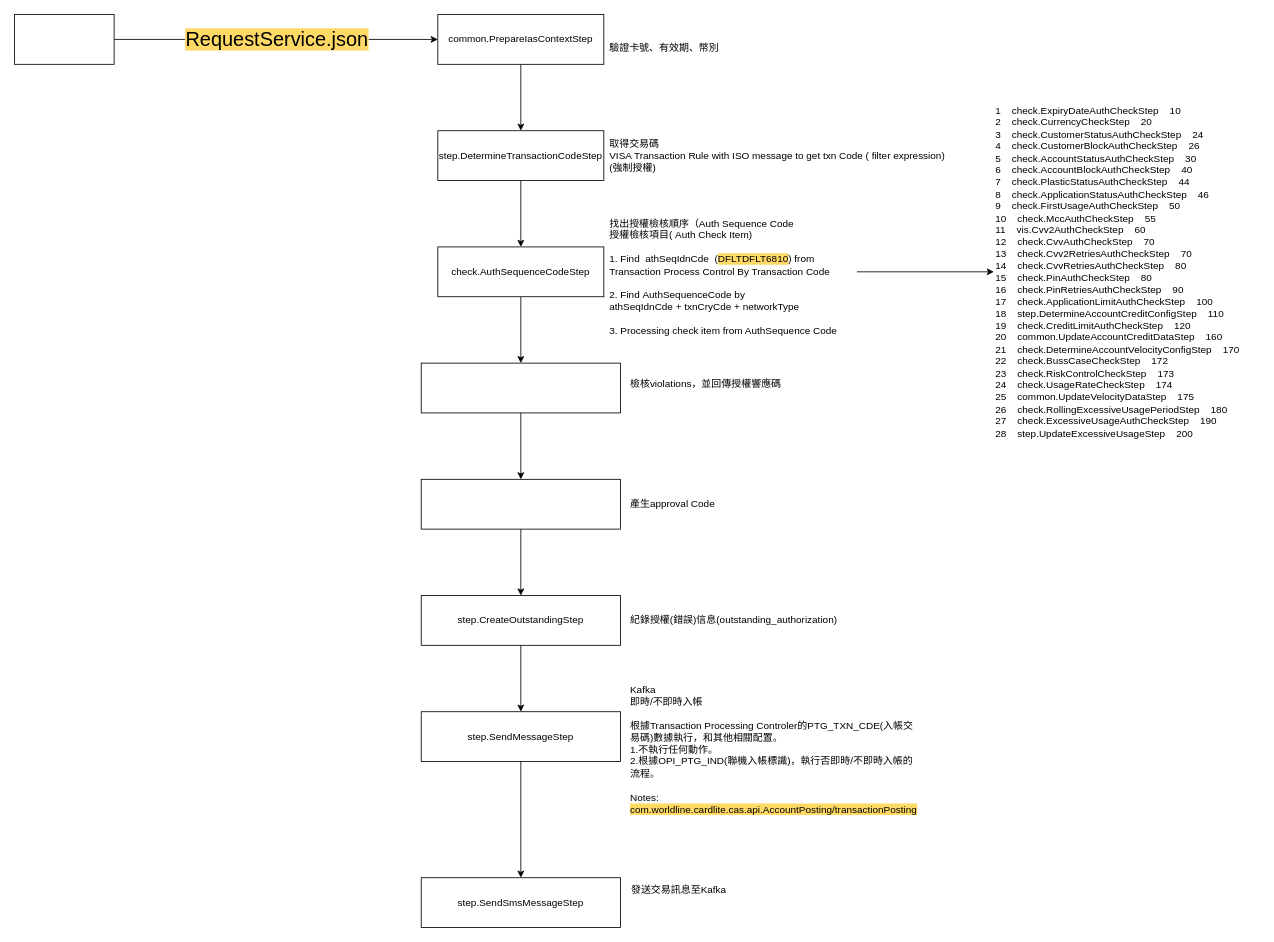
The diagram is 1274 pixels wide and 942 high, and some of its shapes have lost their labels. Each missing label, with the box of its shape:
IAS: (14, 14, 114, 64)
step.DetermineMostServerResponseStep: (420, 362, 620, 413)
step.GenerateApproveCodeStep: (420, 478, 620, 529)
